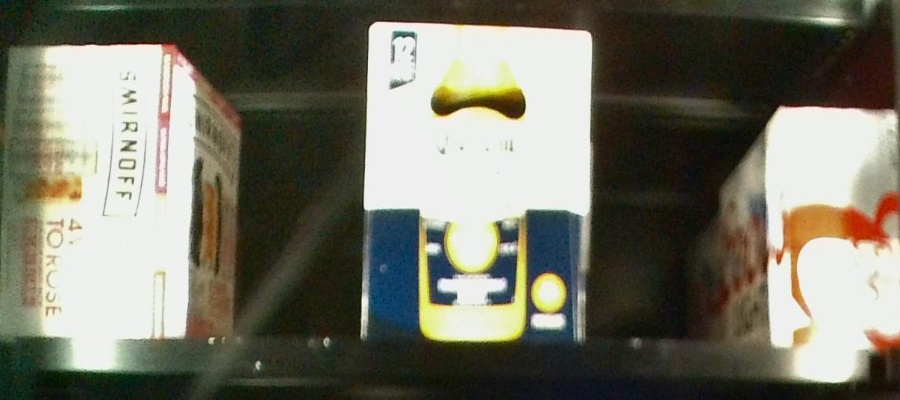bottle: (366, 17, 590, 343), (4, 42, 239, 337), (770, 104, 900, 351)
